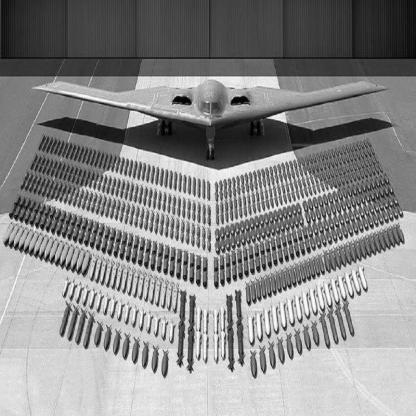B2: (32, 81, 391, 160)
